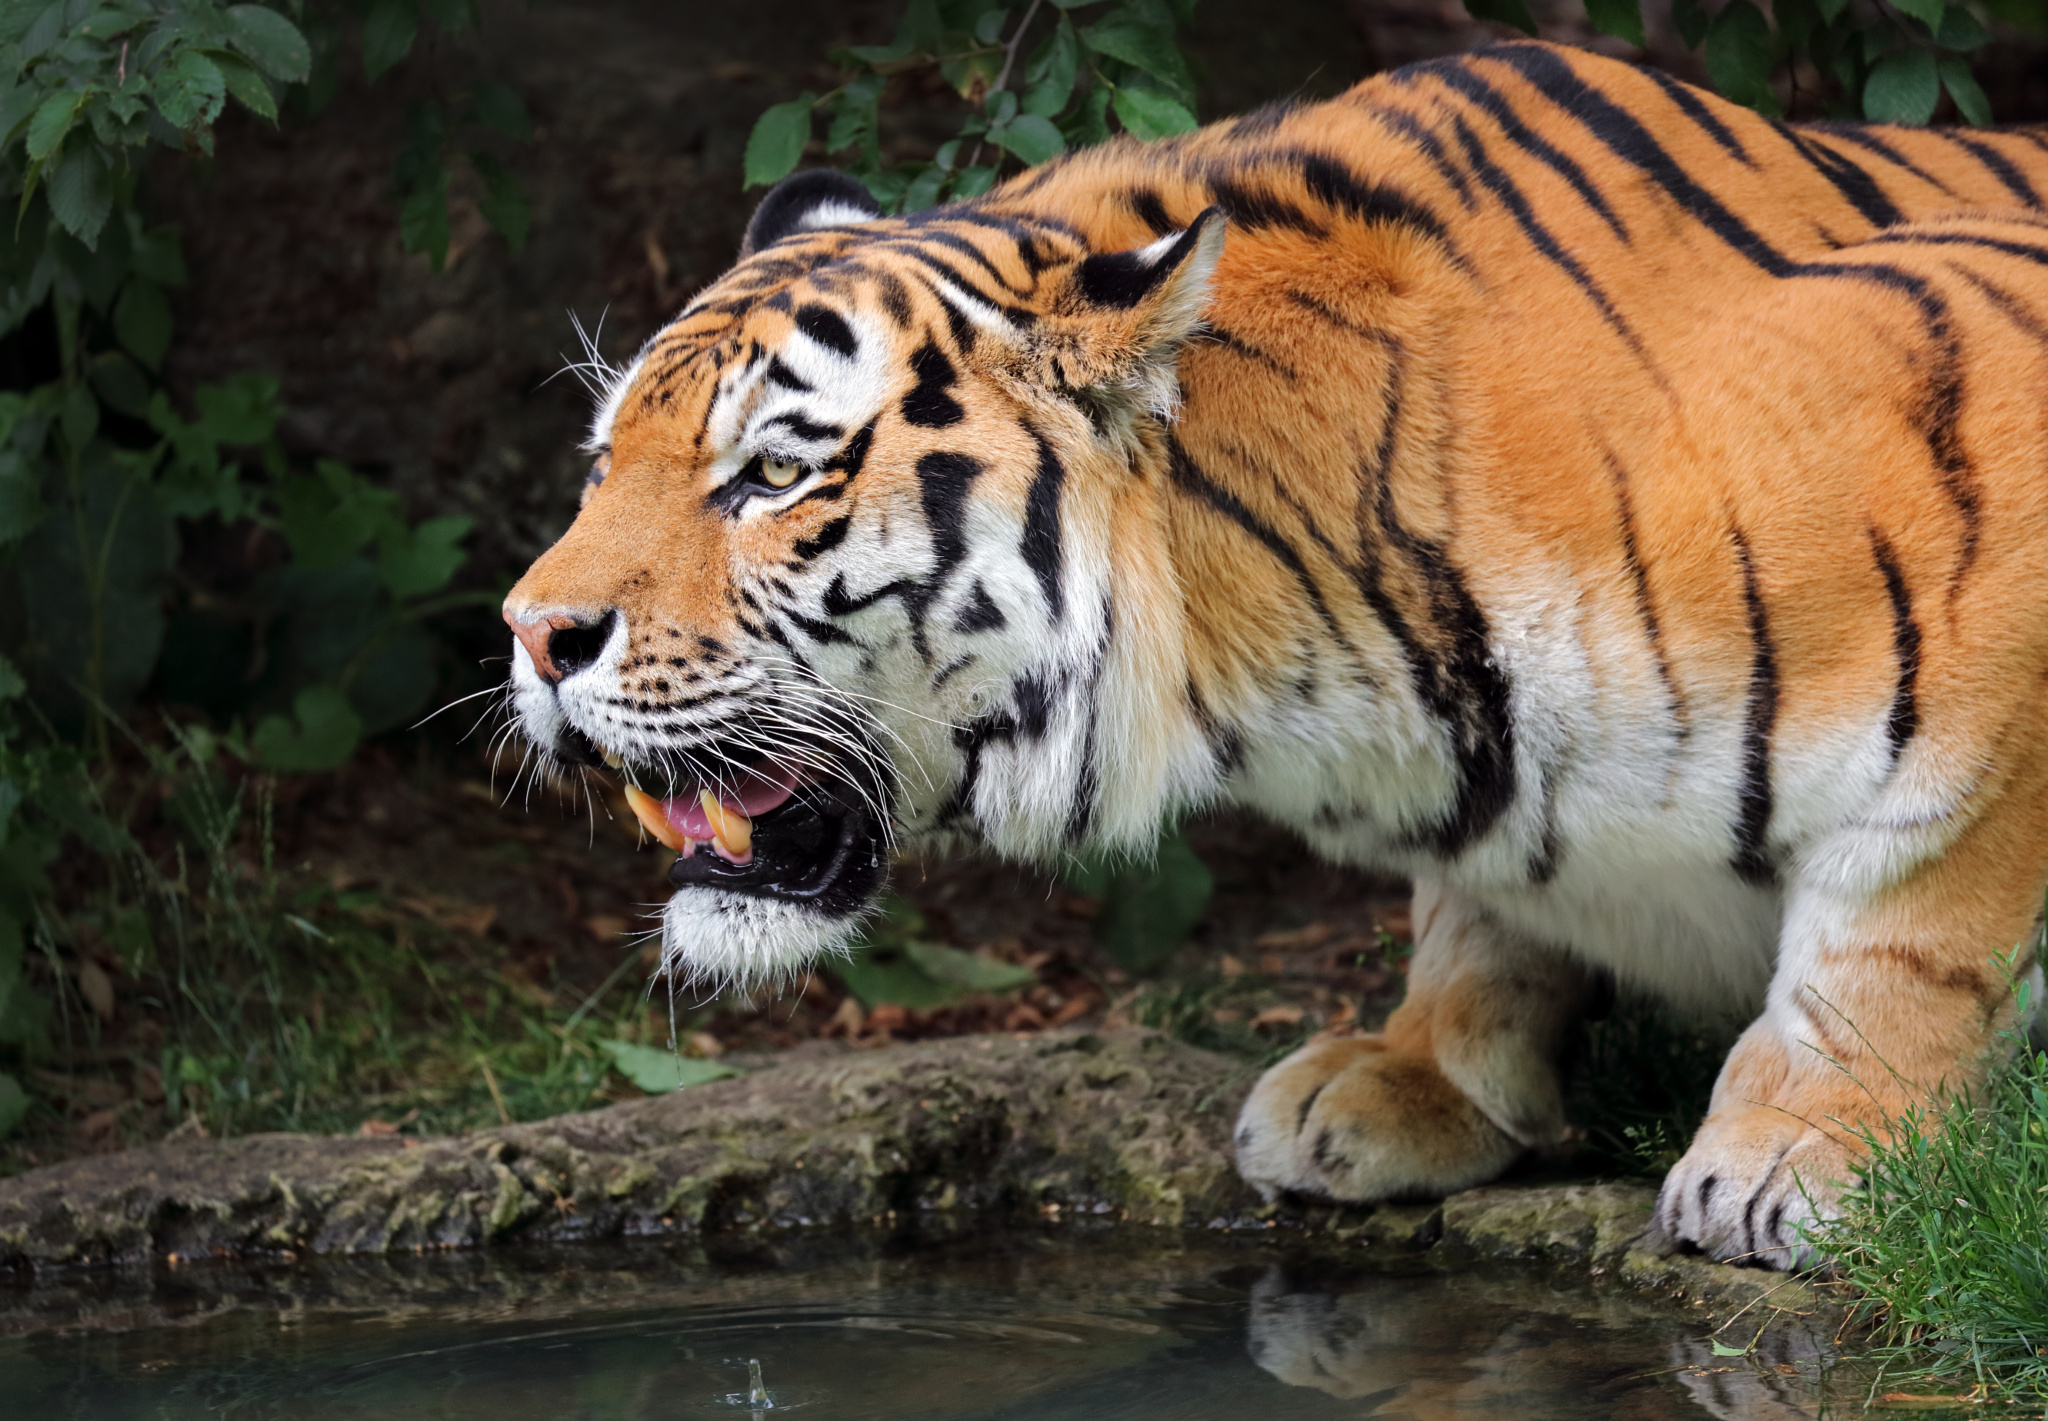tiger: (450, 45, 2018, 1306)
